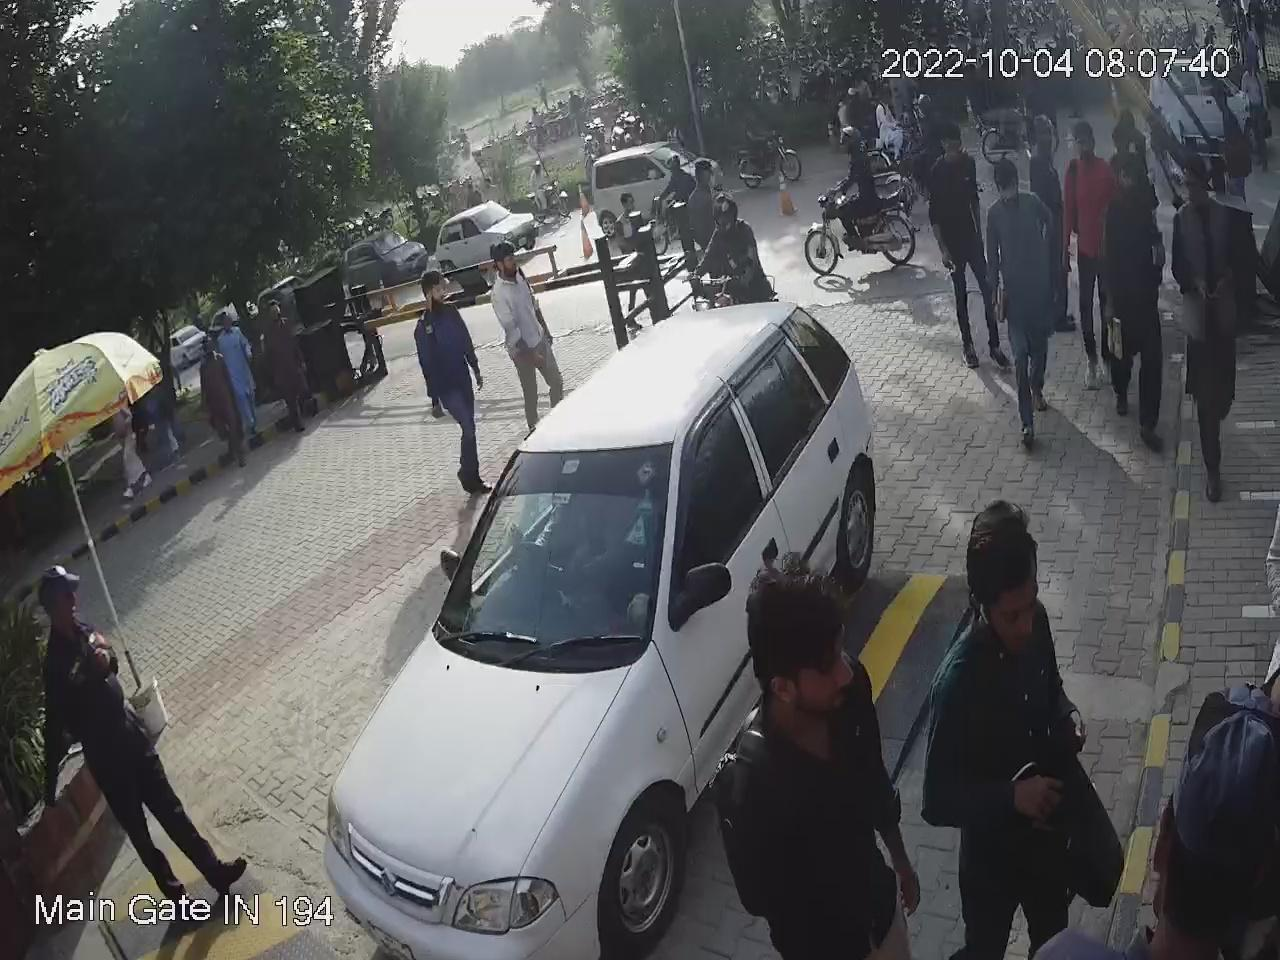windshield: (433, 450, 668, 673)
